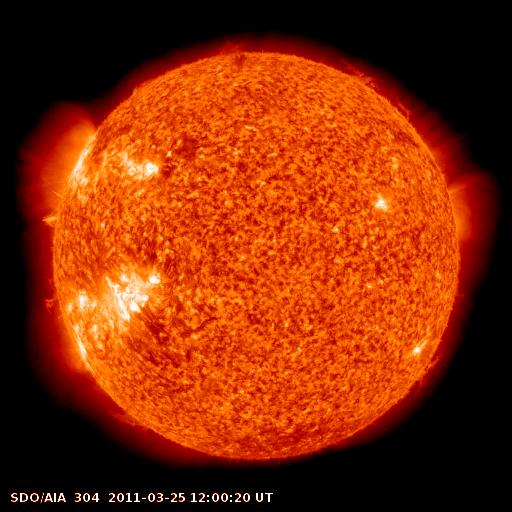prominence: (334, 54, 416, 128), (400, 345, 448, 398), (94, 398, 151, 438), (31, 279, 72, 318)
